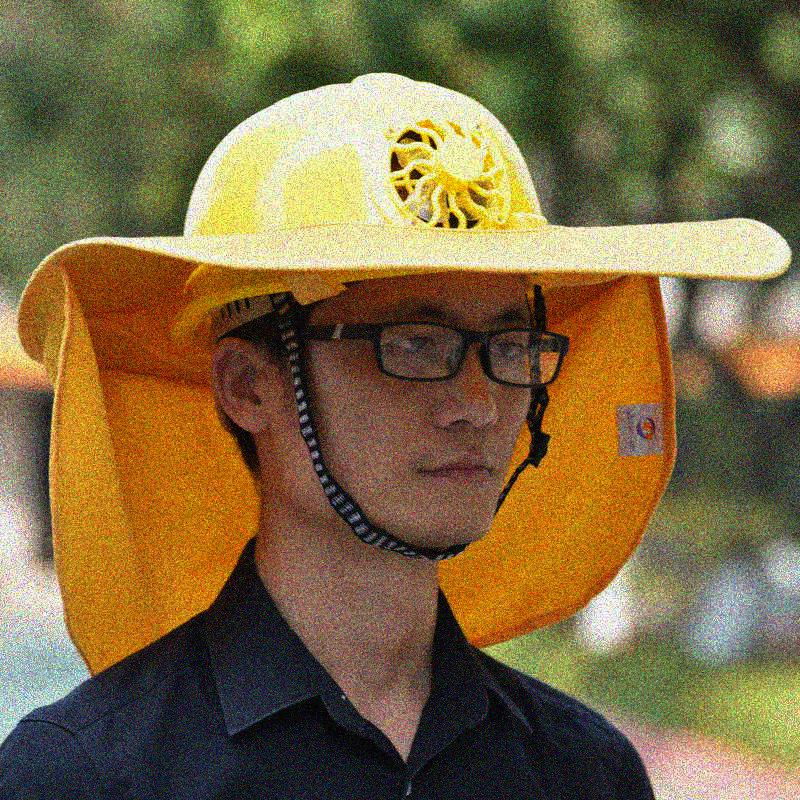helmet: (189, 68, 569, 555)
